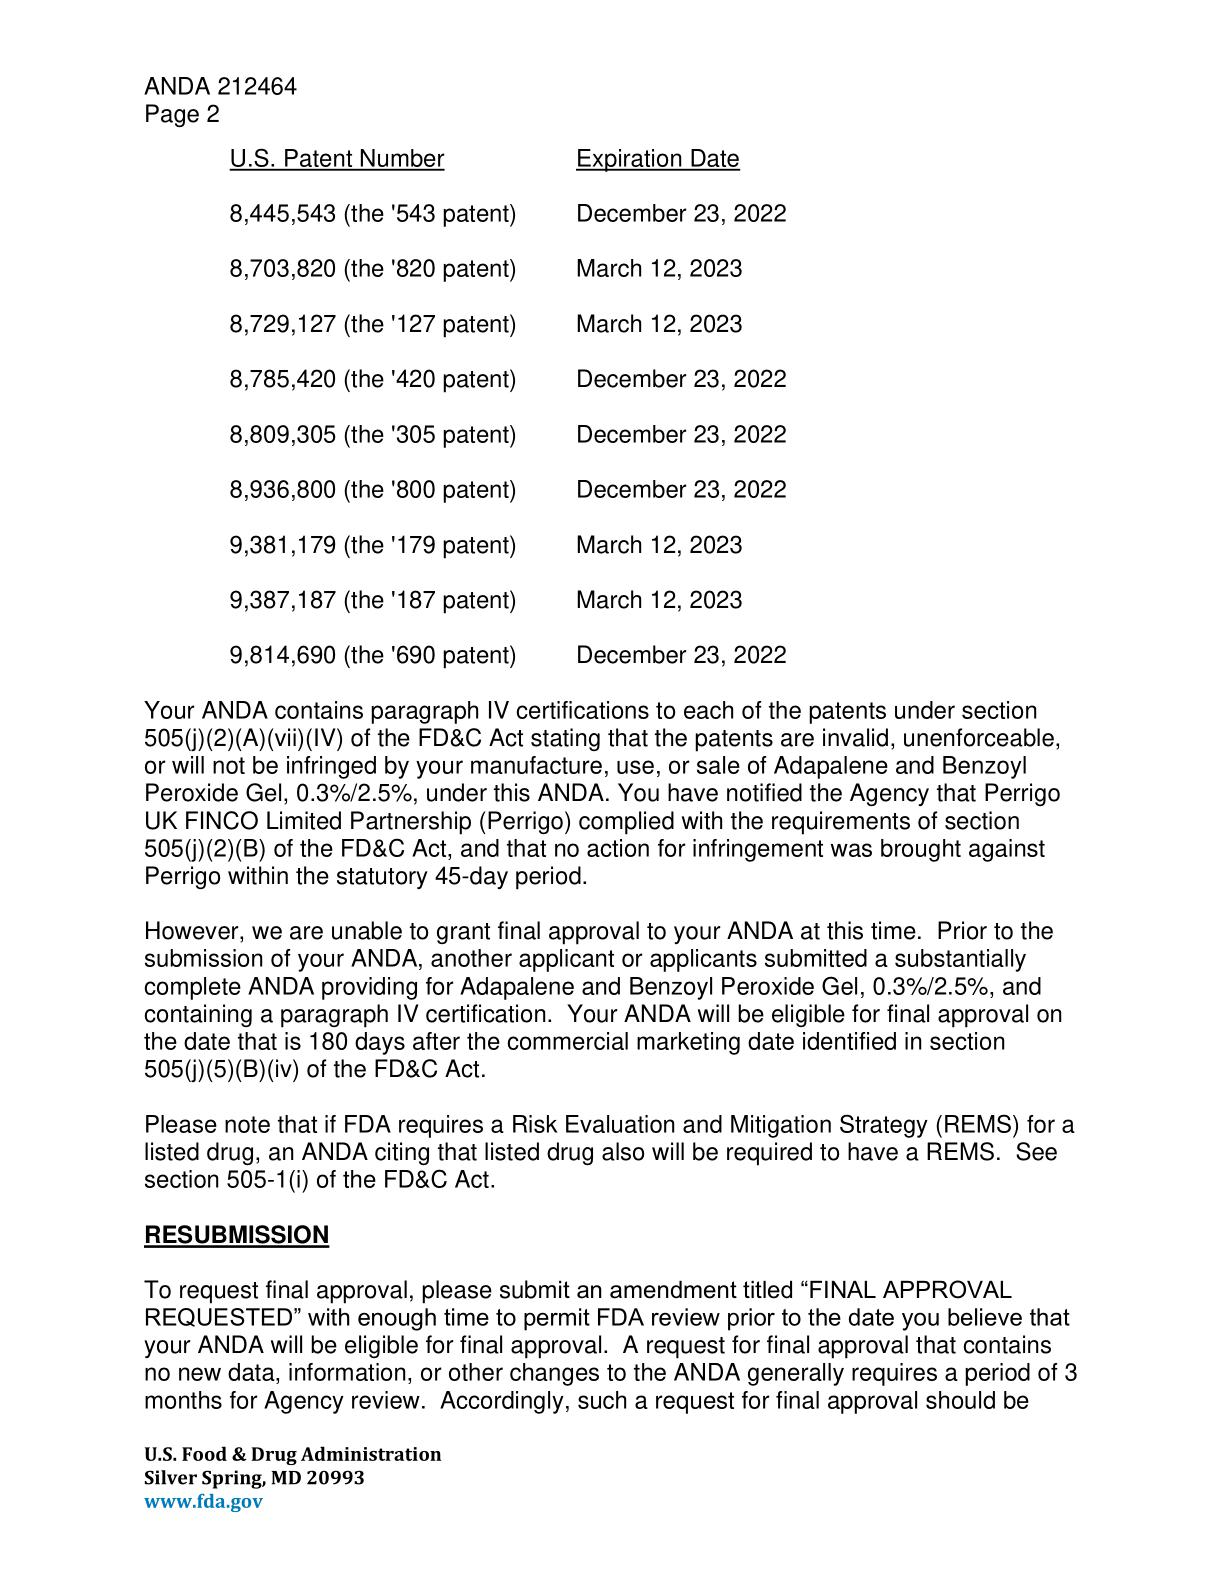nolines: (221, 141, 789, 670)
